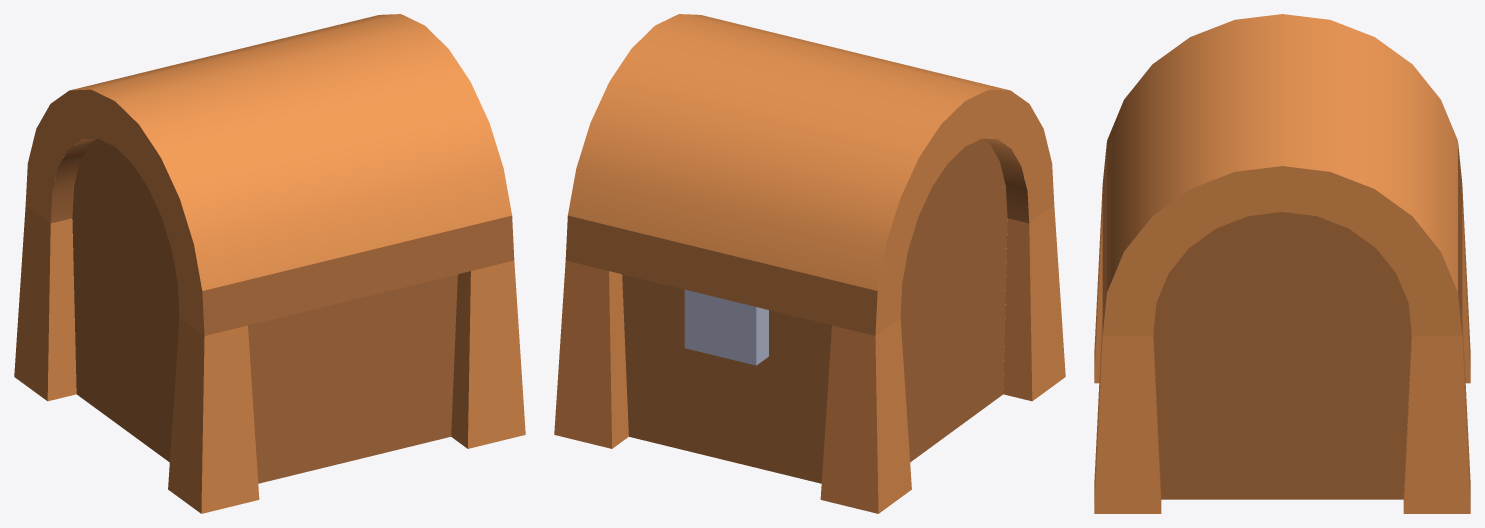
File: chest.glb
The picture shows the model from 3 angles, left to right: view 1: azimuth 30°, elevation 25°; view 2: azimuth 150°, elevation 25°; view 3: azimuth 270°, elevation 25°; orthographic projection.
Visible parts, largest first — view 1: chest; view 2: chest; view 3: chest.
Part boxes in pixels (x1,y1,x2,y2): chest: (14, 14, 525, 513); chest: (554, 14, 1065, 513); chest: (1094, 14, 1470, 513).
Bounding box in the file's own units: 0.2604 × 0.2628 × 0.2604.
